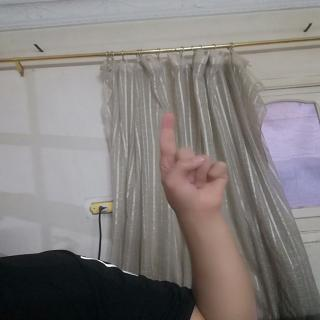BAA: (156, 111, 234, 216)
